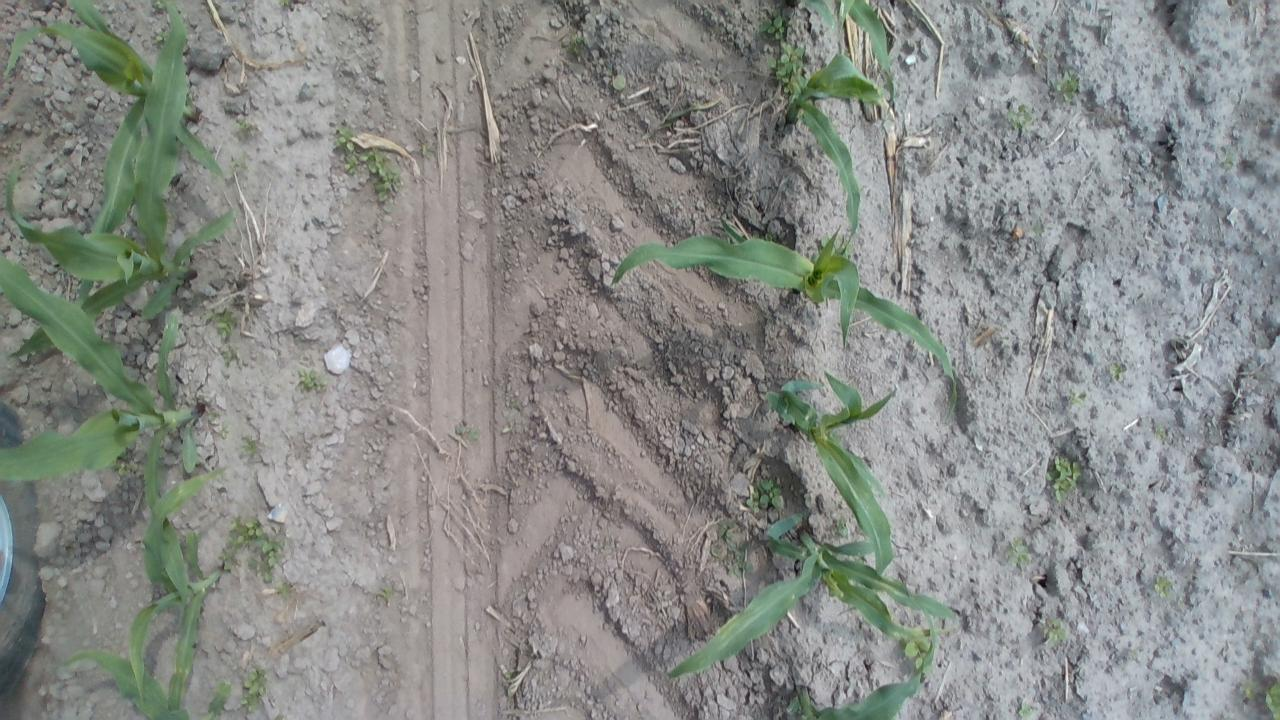Maize: (3, 0, 244, 366), (604, 210, 964, 425), (2, 244, 214, 566), (658, 502, 967, 684), (9, 0, 233, 240), (110, 461, 234, 720), (766, 364, 902, 586), (781, 46, 884, 246), (53, 638, 247, 720), (780, 672, 944, 720), (808, 0, 898, 83)
Weeds: (218, 511, 290, 589), (762, 42, 812, 103), (360, 148, 407, 206), (1044, 452, 1089, 507), (330, 122, 366, 176), (236, 666, 272, 720), (718, 523, 752, 579), (903, 627, 941, 676), (745, 474, 787, 515), (1243, 674, 1280, 720), (198, 304, 238, 342), (1022, 210, 1058, 248), (1005, 536, 1039, 574), (292, 364, 331, 395), (1004, 100, 1039, 134), (1042, 616, 1074, 652), (1053, 70, 1082, 107), (228, 112, 263, 142), (234, 432, 264, 463), (451, 417, 482, 446), (758, 14, 788, 41), (561, 30, 590, 56), (1220, 150, 1246, 178), (377, 579, 402, 608), (1152, 570, 1174, 602), (208, 410, 232, 439), (832, 513, 856, 540), (1010, 700, 1042, 720), (1108, 359, 1132, 385), (149, 27, 176, 49), (222, 154, 250, 175), (107, 461, 135, 480), (219, 346, 239, 371), (608, 70, 630, 92), (1066, 388, 1090, 406), (276, 578, 294, 600), (1153, 422, 1171, 444), (148, 0, 170, 14), (270, 0, 294, 8)
